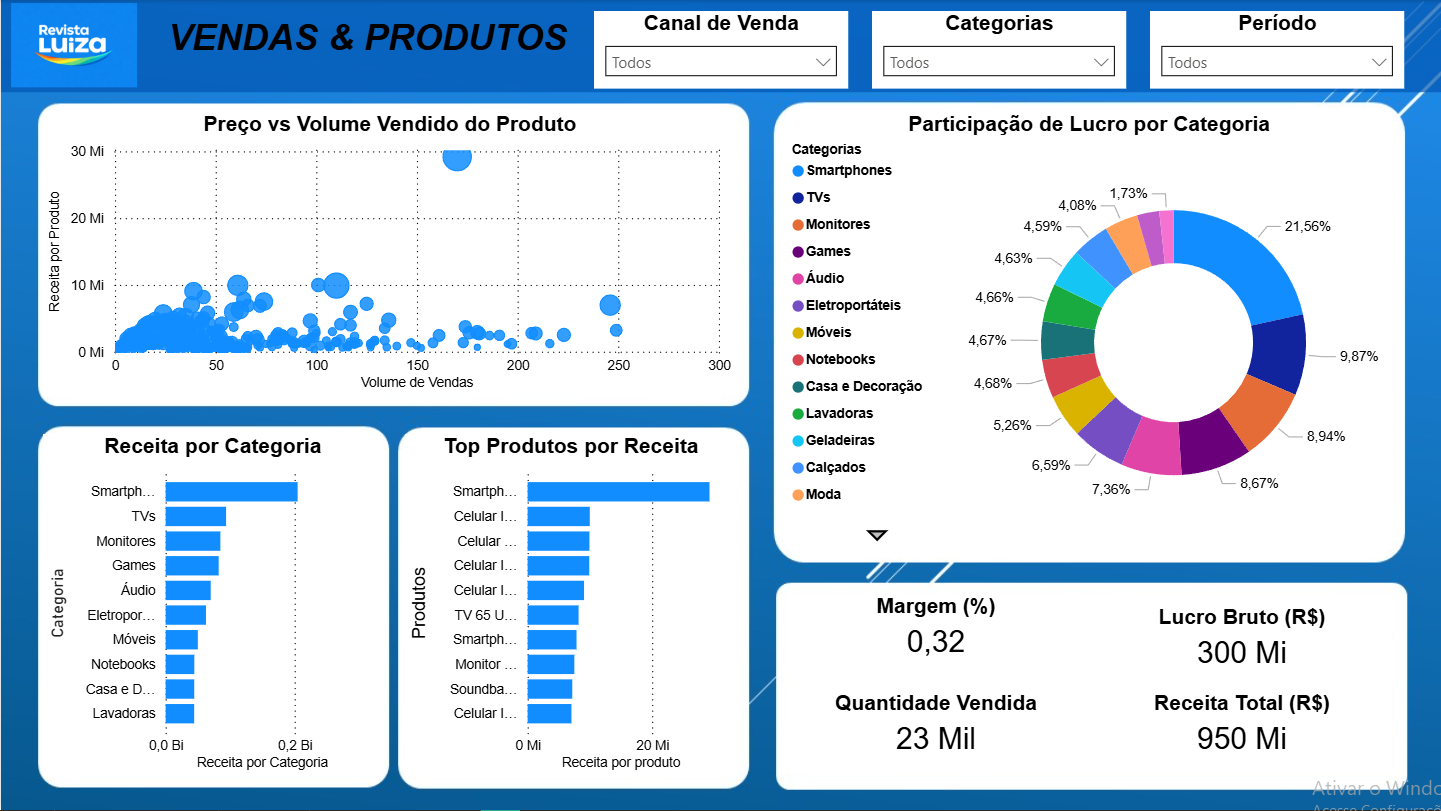

This screenshot's page, from the dashboard's own definition file:
{"tool":"powerbi","page":{"name":"VENDAS & PRODUTOS","canvas":[1280,720],"ordinal":1},"visuals":[{"type":"shape","box":[0,0,1280,82.2],"z":500},{"type":"slicer","title":"Período","fields":{"Values":["pedidos.data_pedido.Variation.Hierarquia de datas.Ano","pedidos.data_pedido.Variation.Hierarquia de datas.Mês"]},"box":[1021.6,10,226.5,68.8],"z":1000},{"type":"image","box":[8,3,114.7,74.8],"z":2000},{"type":"slicer","title":"Categorias","fields":{"Values":["categorias.categoria_nome"]},"box":[774.2,10,226.5,68.8],"z":3000},{"type":"slicer","title":"Canal de Venda","fields":{"Values":["pedidos.canal_venda"]},"box":[526.8,10,226.5,68.8],"z":4000},{"type":"textbox","box":[123.1,10.5,404.2,67.4],"z":5000},{"type":"clusteredBarChart","title":"Top Produtos por Receita","fields":{"Category":["produtos.produto_nome"],"Y":["categorias.Receita Líquida Itens"]},"box":[358.9,385.6,295,304.3],"z":6000},{"type":"clusteredBarChart","title":"Receita por Categoria","fields":{"Category":["categorias.categoria_nome"],"Y":["categorias.Receita por Categoria"]},"box":[37.2,385.6,302,304.3],"z":7000},{"type":"scatterChart","title":"Preço vs Volume Vendido do Produto","fields":{"Category":["produtos.produto_nome"],"Size":["categorias.Lucro Bruto"],"X":["categorias.Qtd Vendida por Produto"],"Y":["categorias.Receita por Produto"]},"box":[37.2,99.9,616.8,252.1],"z":8000},{"type":"donutChart","title":"Participação de Lucro por Categoria","fields":{"Category":["categorias.categoria_nome"],"Y":["categorias.Receita por Categoria"]},"box":[698.1,99.9,538.9,389.1],"z":9000},{"type":"card","title":"Margem (%)","fields":{"Values":["categorias.Margem %"]},"box":[697.8,527.8,266.7,67.8],"z":10000},{"type":"card","title":"Lucro Bruto (R$)","fields":{"Values":["categorias.Lucro Bruto"]},"box":[970,537.8,266.7,67.8],"z":11000},{"type":"card","title":"Quantidade Vendida","fields":{"Values":["categorias.Qtd Vendida por Produto"]},"box":[697.8,614.4,266.7,67.8],"z":12000},{"type":"card","title":"Receita Total (R$)","fields":{"Values":["categorias.Receita por Produto"]},"box":[970,614.4,266.7,67.8],"z":13000}]}

Visuals, with their boxes in screenshot pixels (x1, y1, x2, y2), scaled from the page's 1280x720 canvas onto the 1441x811 screenshot:
shape: <bbox>0, 0, 1440, 93</bbox>
"Período" slicer: <bbox>1150, 11, 1405, 89</bbox>
image: <bbox>9, 3, 138, 88</bbox>
"Categorias" slicer: <bbox>872, 11, 1127, 89</bbox>
"Canal de Venda" slicer: <bbox>593, 11, 848, 89</bbox>
textbox: <bbox>139, 12, 594, 88</bbox>
"Top Produtos por Receita" clusteredBarChart: <bbox>404, 434, 736, 777</bbox>
"Receita por Categoria" clusteredBarChart: <bbox>42, 434, 382, 777</bbox>
"Preço vs Volume Vendido do Produto" scatterChart: <bbox>42, 113, 736, 396</bbox>
"Participação de Lucro por Categoria" donutChart: <bbox>786, 113, 1393, 551</bbox>
"Margem (%)" card: <bbox>786, 595, 1086, 671</bbox>
"Lucro Bruto (R$)" card: <bbox>1092, 606, 1392, 682</bbox>
"Quantidade Vendida" card: <bbox>786, 692, 1086, 768</bbox>
"Receita Total (R$)" card: <bbox>1092, 692, 1392, 768</bbox>
